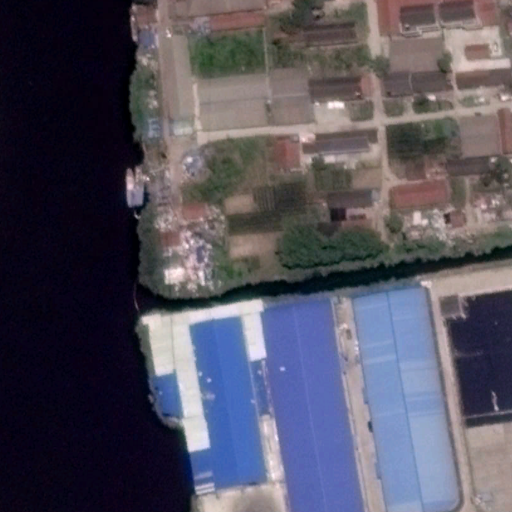msw: (153, 202, 222, 293), (426, 205, 469, 241)
